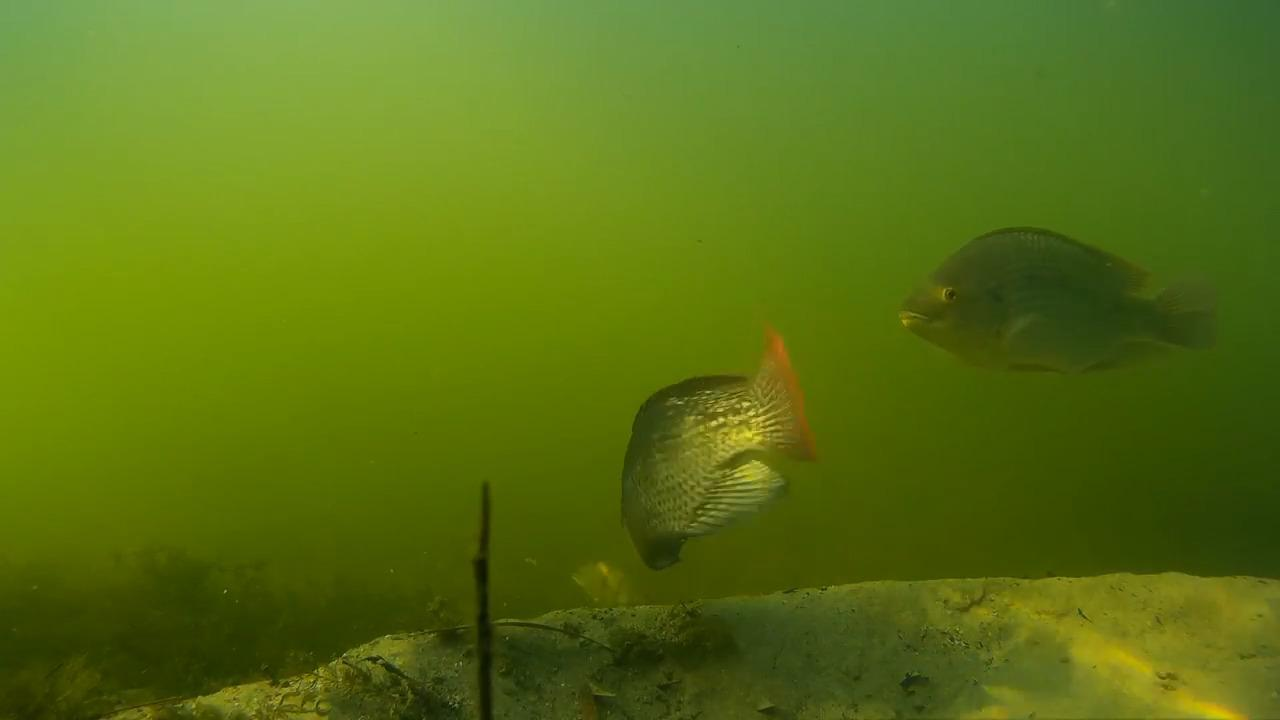Tilapia: (895, 224, 1222, 398), (578, 352, 827, 564)
